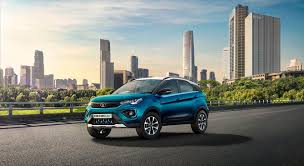Tata Nexon: (85, 76, 211, 141)
